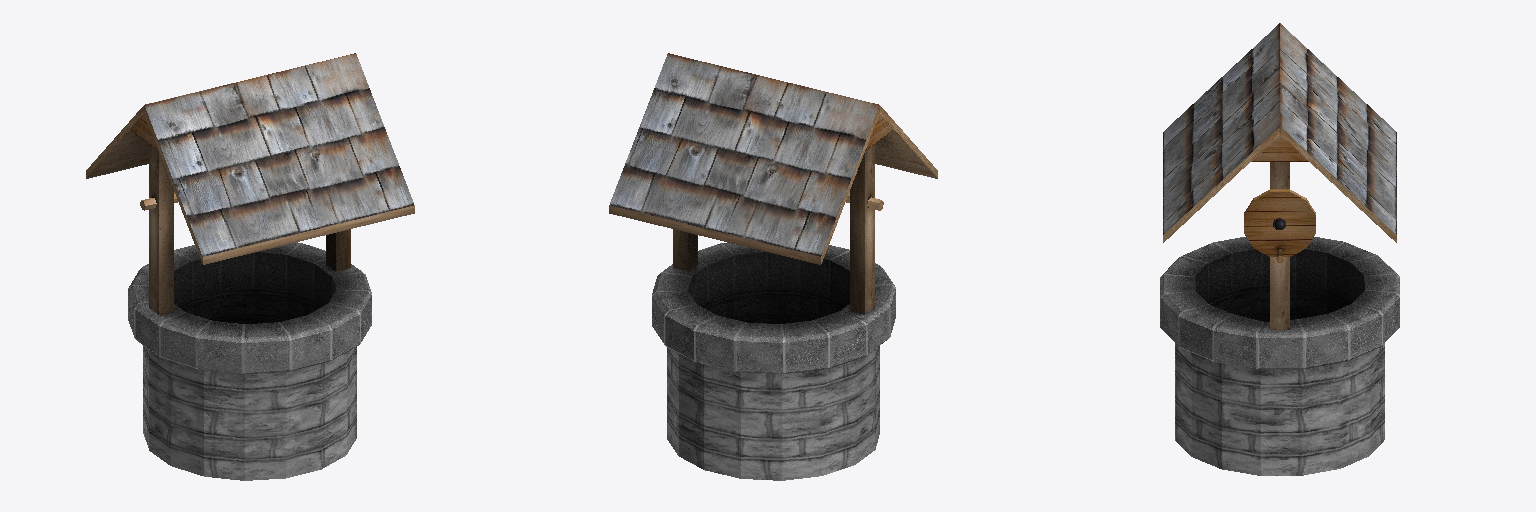
3 renders of one model, left to right at view 1: azimuth 30°, elevation 25°; view 2: azimuth 150°, elevation 25°; view 3: azimuth 270°, elevation 25°, orthographic.
Bounding box in the file's own units: 2.14 × 3.22 × 1.97.
1 materials, 1 textured.